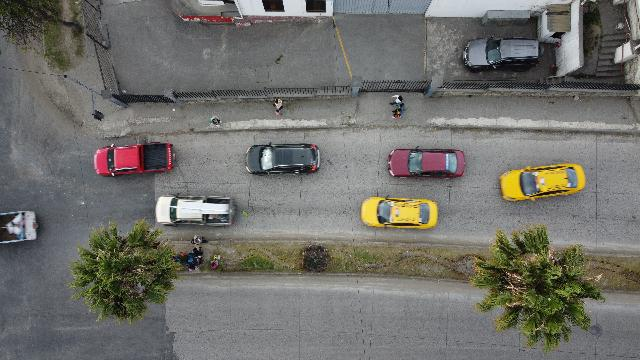Vehiculo: (499, 164, 585, 202), (94, 142, 172, 176), (464, 38, 540, 72), (360, 196, 438, 228), (244, 143, 320, 175), (156, 195, 234, 226), (388, 148, 466, 178), (0, 211, 38, 243)
